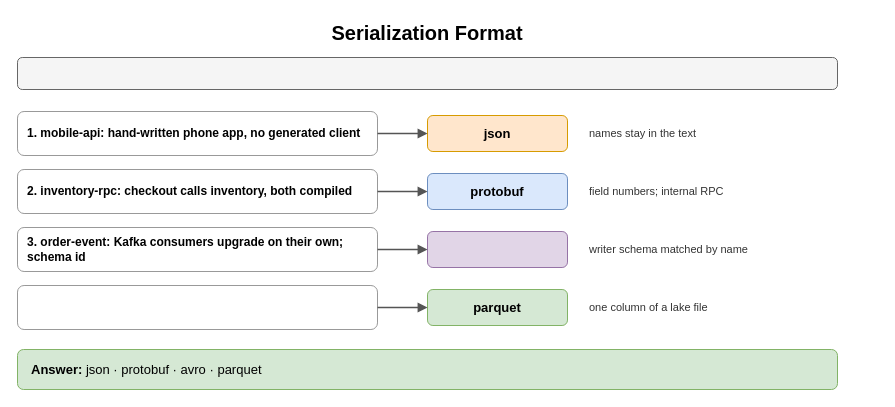
The diagram is 895 pixels wide and 407 high, and some of its shapes have lost their labels. Each missing label, with the centre of its shape:
4. year-scan: mean qty, one field across lake files: point (197, 307)
avro: point (497, 249)
Four readers of the shop order: JSON, Protocol Buffers, Avro, or Parquet?: point (427, 73)
